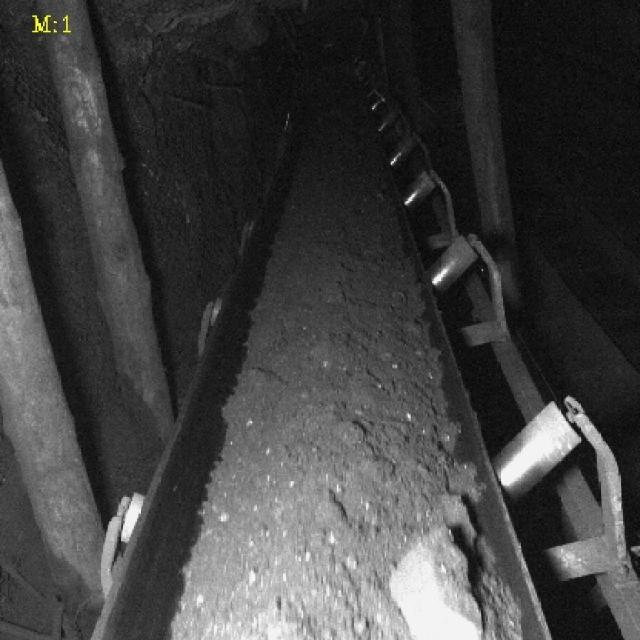large_sized_coal: (388, 525, 488, 637)
